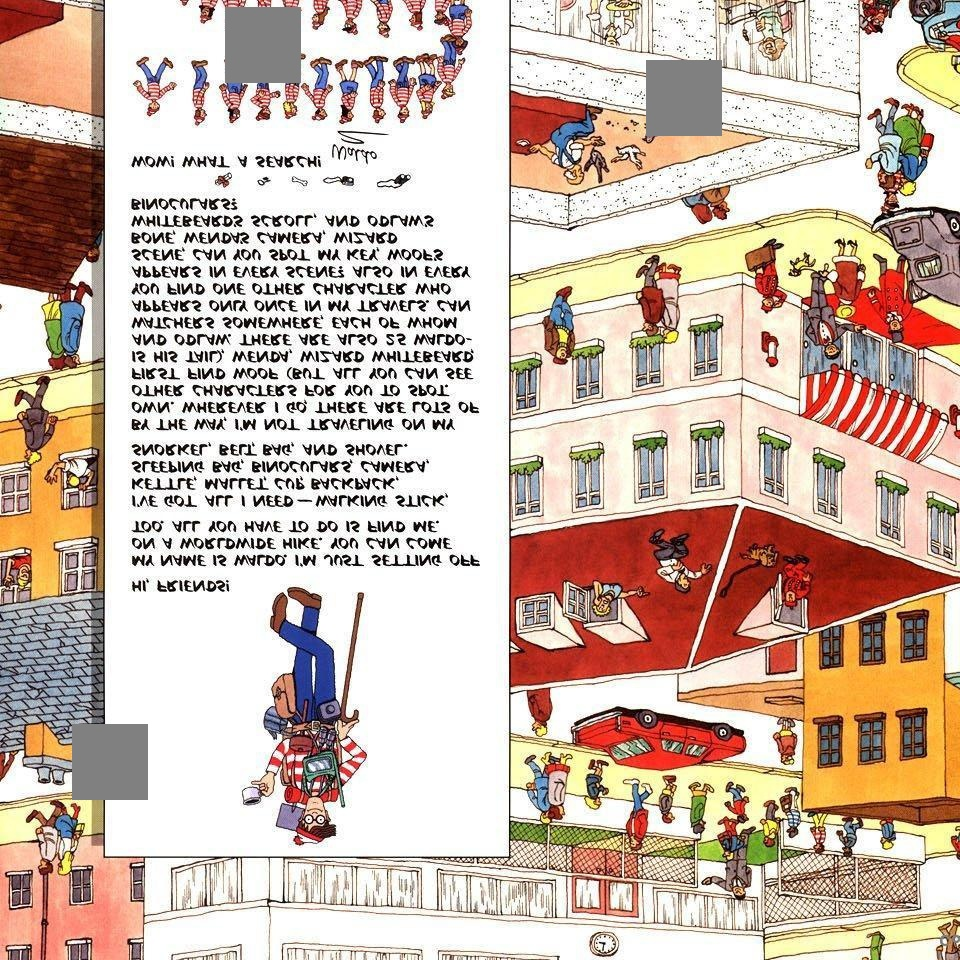waldo: (241, 582, 367, 847), (861, 0, 920, 36)
